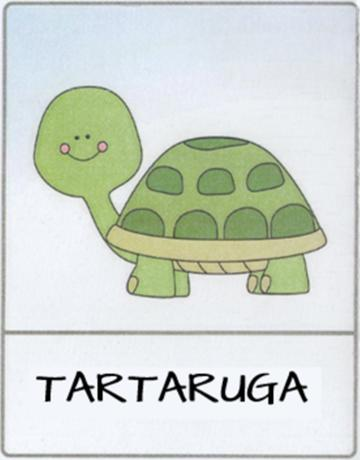tartaruga: (3, 1, 360, 459)
